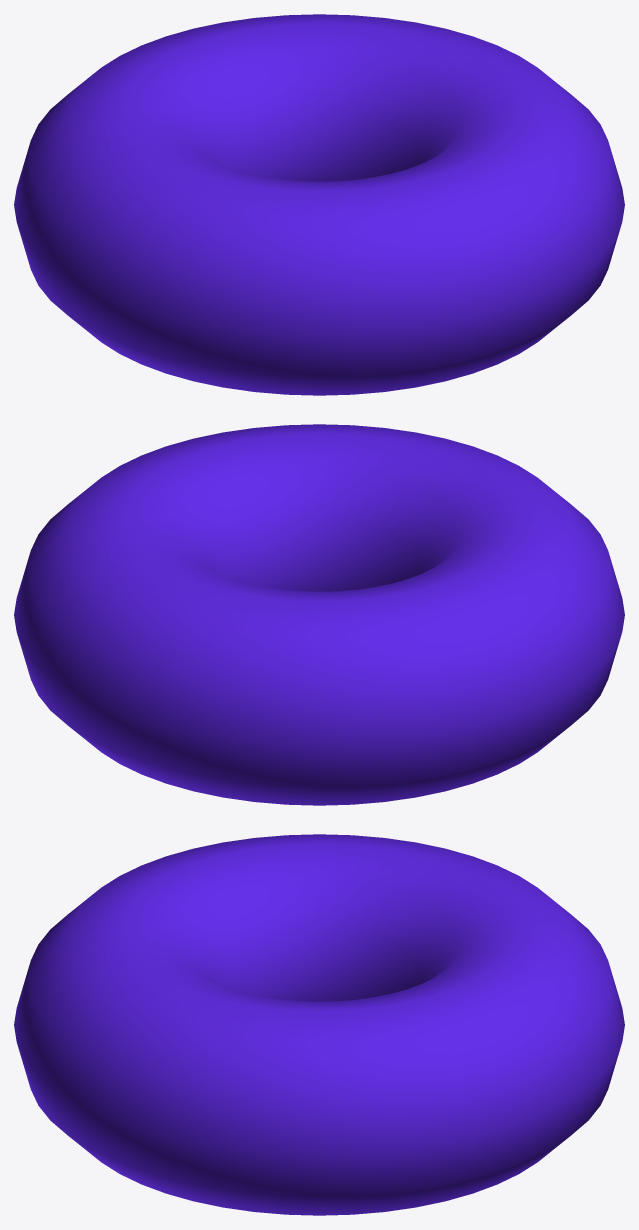
3 views of the same model, one above another, from view 1: azimuth 30°, elevation 25°; view 2: azimuth 150°, elevation 25°; view 3: azimuth 270°, elevation 25° (orthographic).
Parts seen in each view (by area): view 1: Torus; view 2: Torus; view 3: Torus.
Boxes of the visible parts, bbox=[...] form: Torus: bbox=[14, 14, 624, 395]; Torus: bbox=[14, 424, 624, 805]; Torus: bbox=[14, 834, 624, 1215].
Size of the model in its own units: 3.7 by 1.3 by 3.7.
